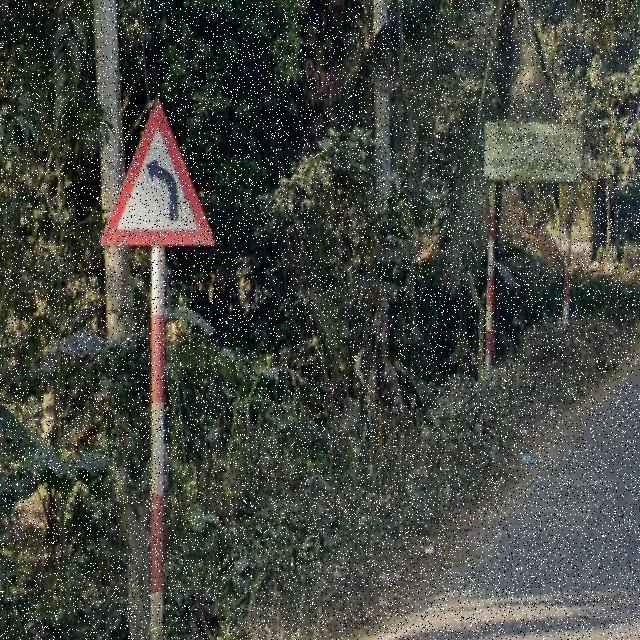Left-Turn: (94, 97, 218, 258)
